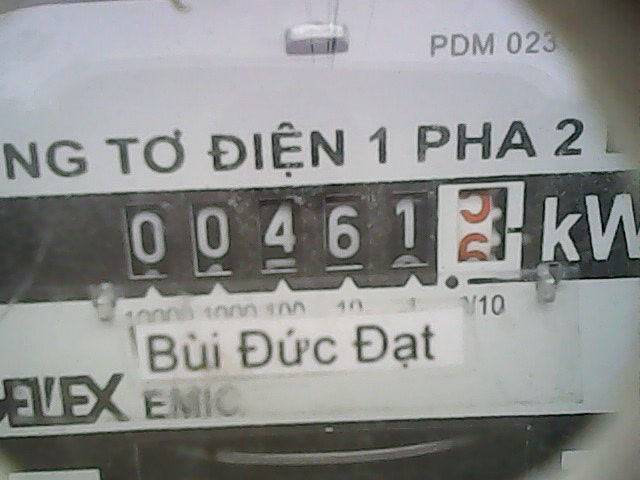phy_plate: (115, 175, 531, 293)
